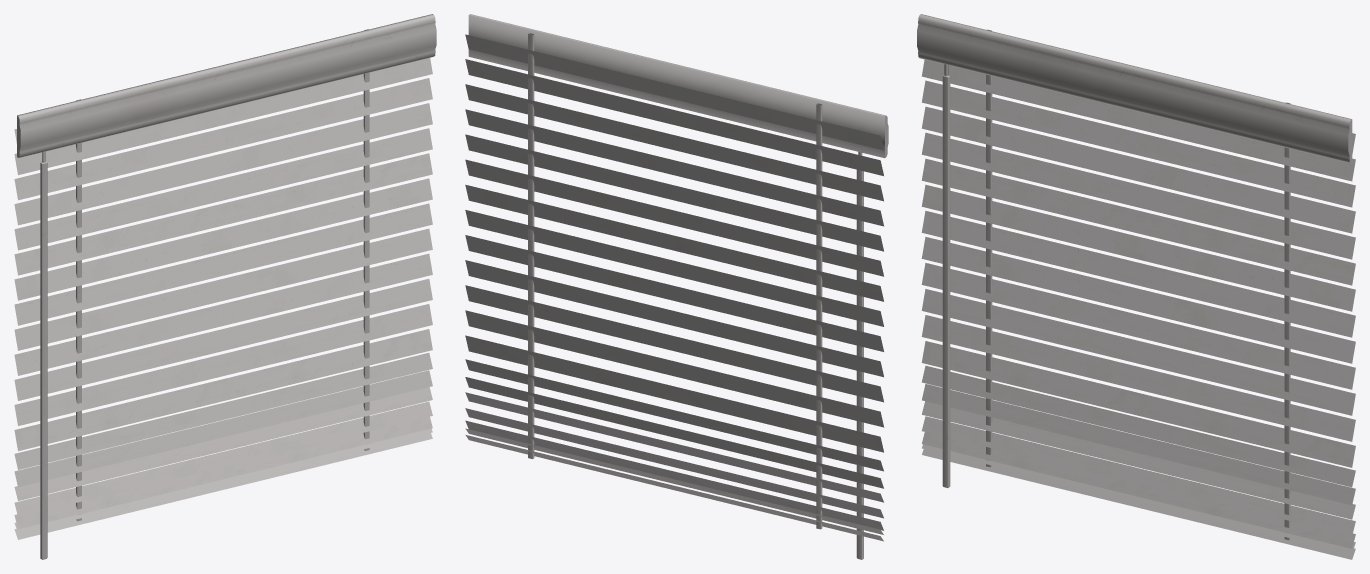
Rendered from SM_Blinds_A1.fbx.
3 views of the same model, side by side, from view 1: azimuth 30°, elevation 25°; view 2: azimuth 150°, elevation 25°; view 3: azimuth 330°, elevation 25° (orthographic). The views are drawn at different scales.
Parts seen in each view (by area): view 1: SM_Blinds_A1; view 2: SM_Blinds_A1; view 3: SM_Blinds_A1.
Boxes of the visible parts, bbox=[...] form: SM_Blinds_A1: bbox=[14, 14, 436, 559]; SM_Blinds_A1: bbox=[465, 14, 888, 559]; SM_Blinds_A1: bbox=[917, 14, 1355, 559].
Bounding box in the file's own units: 65.92 × 1.99 × 68.02.
1 material, 1 textured.
